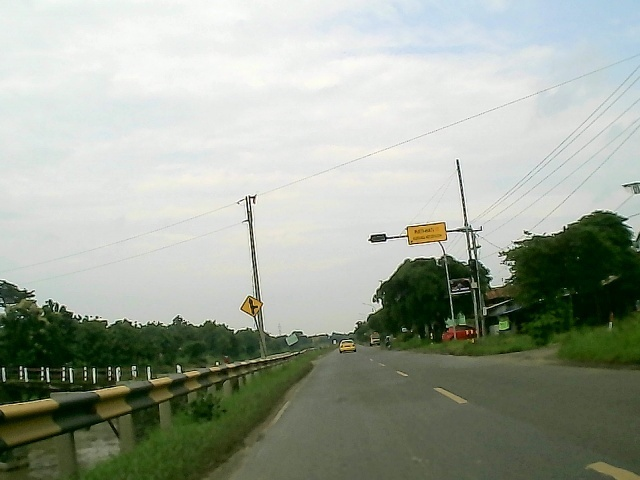Simpang kanan dengan prioritas: (239, 296, 264, 319)
